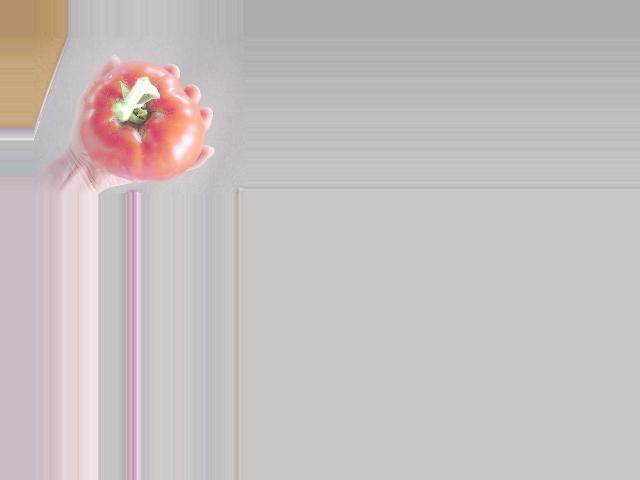tomato: (80, 61, 205, 182)
